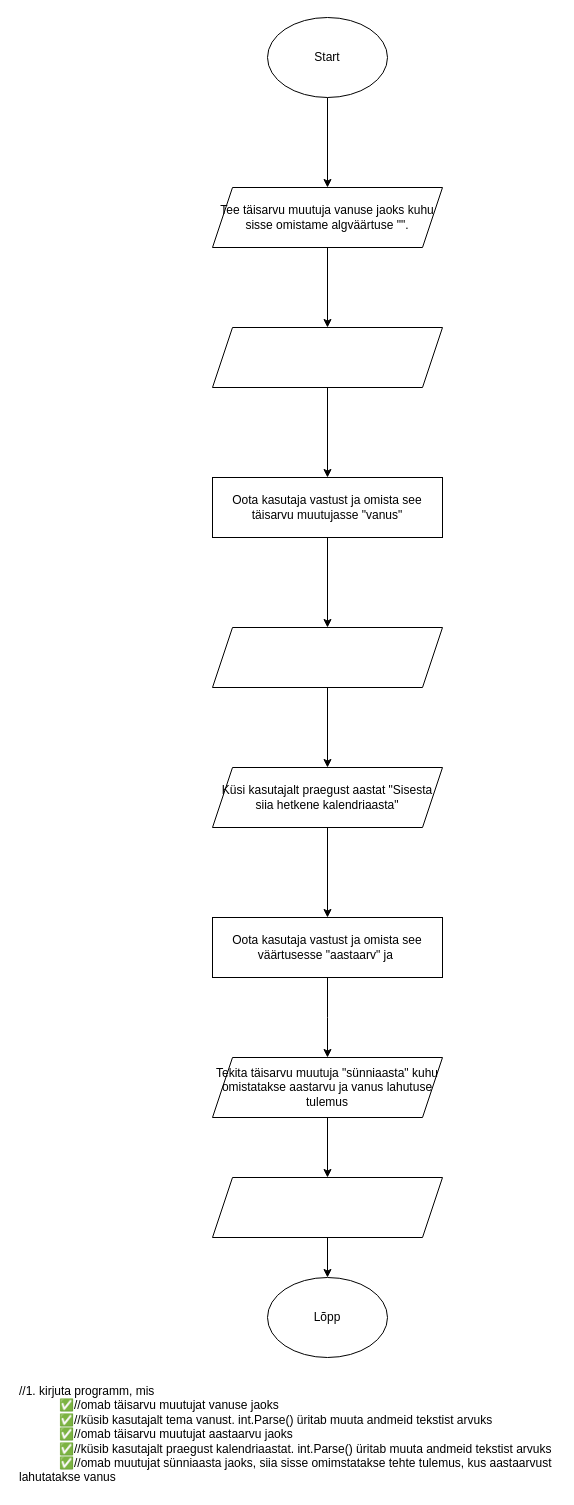
The diagram is 574 pixels wide and 1505 high, and some of its shapes have lost their labels. The centre of each missing label's shape, as x and y in pixels:
Kuva kasutajale tekst "olete sündinud aastal "sünniaasta": point (327, 1207)
Küsi kasutajalt vanust "Tere, kui vana te olete": point (327, 357)
Tekita täisarvu muutuja "aastaarv" jaoks kuhu omistatakse algväärtus "".: point (327, 657)
